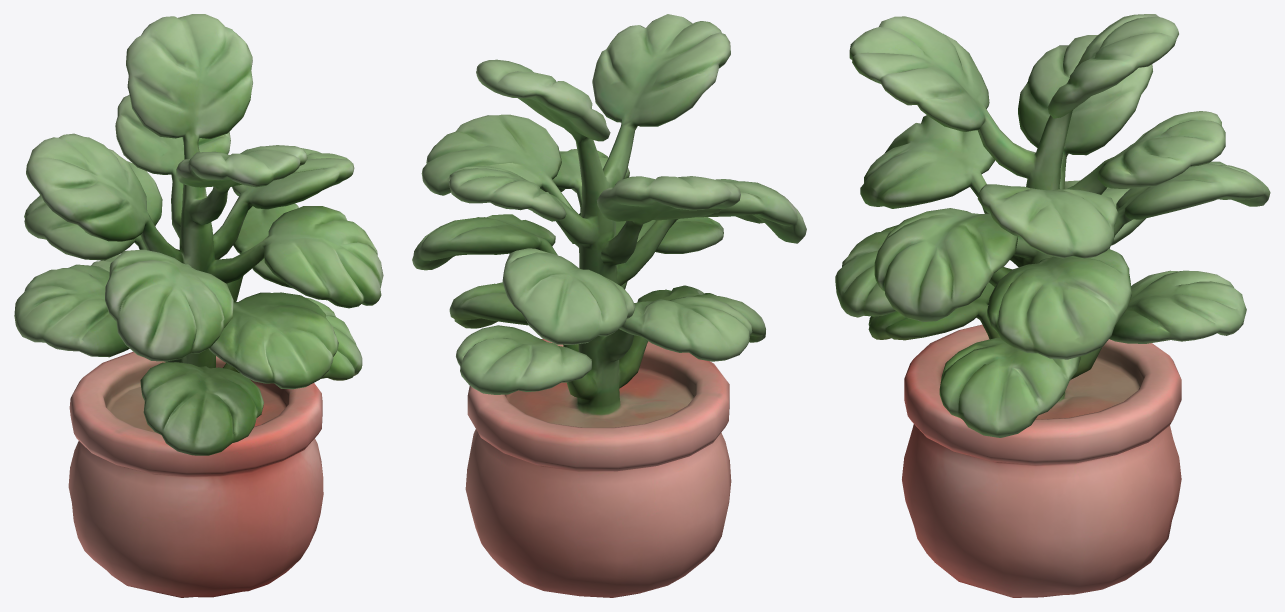
The model's file is bitki.glb.
3 renders of one model, left to right at view 1: azimuth 30°, elevation 25°; view 2: azimuth 150°, elevation 25°; view 3: azimuth 270°, elevation 25°, orthographic. The views are drawn at different scales.
Visible parts, largest first — view 1: tripo_node_37747c13-c64a-4cfe-9b62-2b1349663e6e; view 2: tripo_node_37747c13-c64a-4cfe-9b62-2b1349663e6e; view 3: tripo_node_37747c13-c64a-4cfe-9b62-2b1349663e6e.
Boxes of the visible parts, box(x1,y1,x2,y2) form: tripo_node_37747c13-c64a-4cfe-9b62-2b1349663e6e: box(14, 14, 383, 597); tripo_node_37747c13-c64a-4cfe-9b62-2b1349663e6e: box(412, 14, 806, 597); tripo_node_37747c13-c64a-4cfe-9b62-2b1349663e6e: box(835, 14, 1270, 597).
Size of the model in its own units: 0.6403 by 0.9768 by 0.7015.
Materials: 1 (1 with a texture image).
